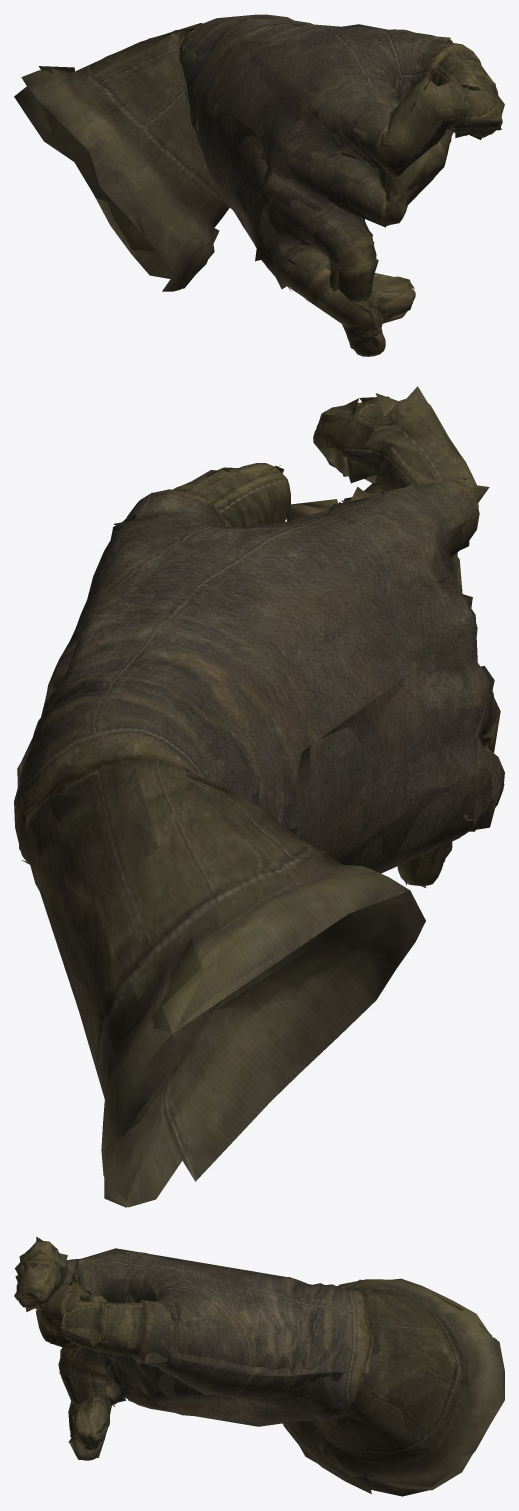
File: BT_Hand_R_Pistol.glb
3 views of the same model, one above another, from view 1: azimuth 30°, elevation 25°; view 2: azimuth 150°, elevation 25°; view 3: azimuth 270°, elevation 25° (orthographic). The views are drawn at different scales.
Visible parts, largest first — view 1: BT_Glove_Close, BT_Glove_Far; view 2: BT_Glove_Close, BT_Glove_Far; view 3: BT_Glove_Close, BT_Glove_Far.
Boxes of the visible parts, x1=… form: BT_Glove_Close: x1=14, y1=14, x2=502, y2=356; BT_Glove_Far: x1=15, y1=14, x2=504, y2=352; BT_Glove_Close: x1=14, y1=398, x2=504, y2=1207; BT_Glove_Far: x1=17, y1=386, x2=504, y2=1207; BT_Glove_Close: x1=16, y1=1241, x2=504, y2=1496; BT_Glove_Far: x1=14, y1=1236, x2=500, y2=1493.
Bounding box in the file's own units: 0.1288 × 0.1443 × 0.2269.
1 material, 1 textured.
